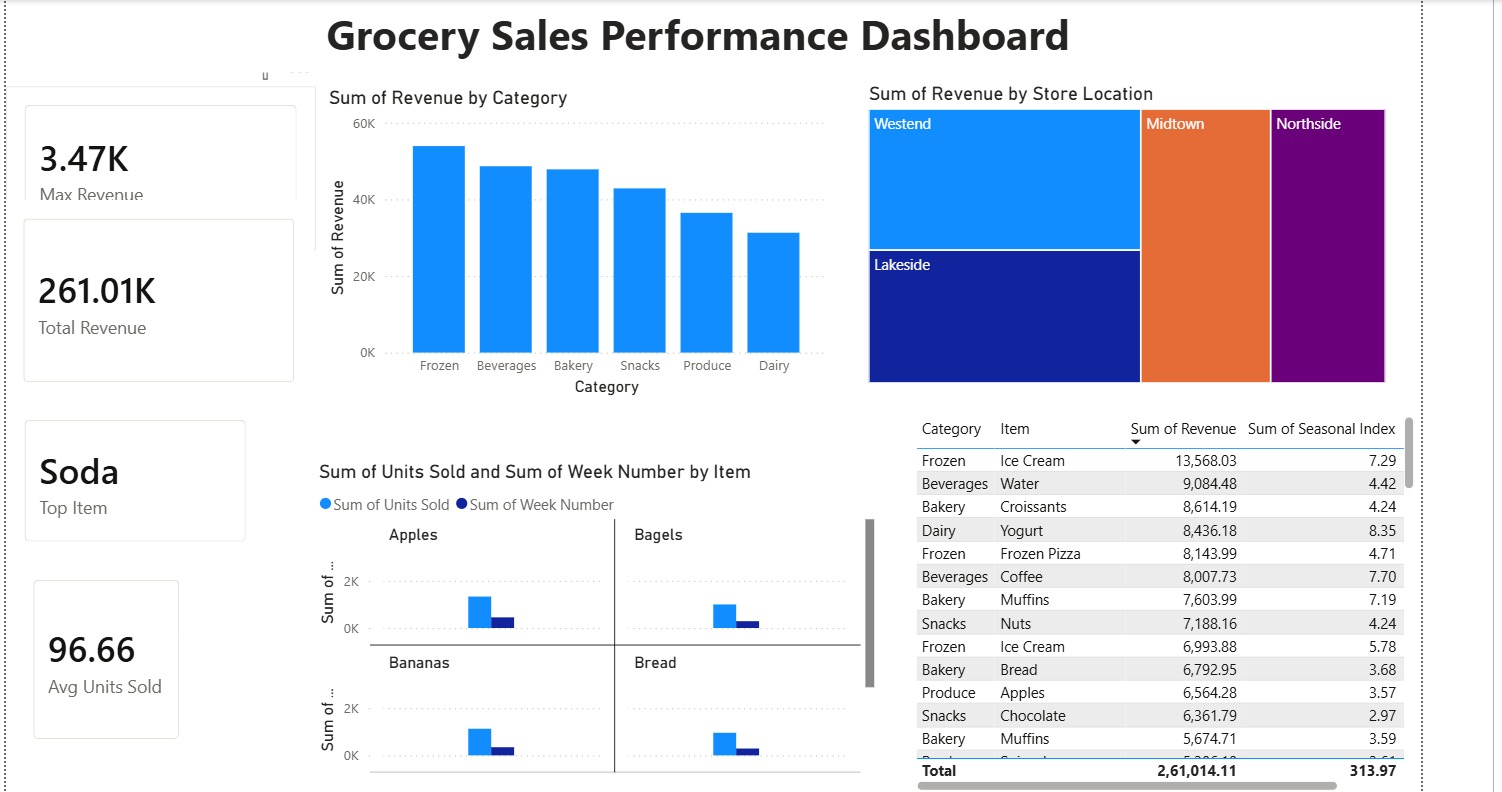

What the dashboard file says about the page in this screenshot:
{"tool":"powerbi","page":{"name":"Page 1","canvas":[1280,720],"ordinal":0},"visuals":[{"type":"cardVisual","fields":{"Data":["Cleaned.Avg Units Sold"]},"box":[7.9,507.7,166.2,178.6],"z":0},{"type":"cardVisual","fields":{"Data":["Cleaned.Max Revenue"]},"box":[0,78,280.4,148.1],"z":1000},{"type":"cardVisual","fields":{"Data":["Cleaned.Top Item"]},"box":[0,362.9,234,144.7],"z":2000},{"type":"cardVisual","fields":{"Data":["Cleaned.Total Revenue"]},"box":[-1.1,180.9,279.3,182],"z":3000},{"type":"clusteredColumnChart","fields":{"Y":["Sum(Cleaned.Units Sold)","Sum(Cleaned.Week Number)"],"Rows":["Cleaned.Item"]},"box":[278.2,415.9,512.7,288.9],"z":4000},{"type":"treemap","fields":{"Values":["Sum(Cleaned.Revenue)"],"Group":["Cleaned.Store Location"]},"box":[775.6,74.6,477.1,277],"z":5000},{"type":"tableEx","fields":{"Values":["Cleaned.Category","Cleaned.Item","Sum(Cleaned.Revenue)","Sum(Cleaned.Seasonal Index)","Cleaned.Sales level"]},"box":[817.5,372,461.3,348.2],"z":6000},{"type":"clusteredColumnChart","fields":{"Category":["Cleaned.Category"],"Y":["Sum(Cleaned.Revenue)"]},"box":[287.2,78,461.3,284.9],"z":7000},{"type":"textbox","box":[99.5,0,941.8,65.6],"z":8000}]}

Visuals, with their boxes on the page's 1280x720 design canvas (x1, y1, x2, y2). These are canvas units, not pixel positions in the 1502x792 screenshot, which may show the page scaled, cropped or inside an application window:
cardVisual - Cleaned.Avg Units Sold: [left=8, top=508, right=174, bottom=686]
cardVisual - Cleaned.Max Revenue: [left=0, top=78, right=280, bottom=226]
cardVisual - Cleaned.Top Item: [left=0, top=363, right=234, bottom=508]
cardVisual - Cleaned.Total Revenue: [left=-1, top=181, right=278, bottom=363]
clusteredColumnChart - Sum(Cleaned.Units Sold) x Sum(Cleaned.Week Number): [left=278, top=416, right=791, bottom=705]
treemap - Sum(Cleaned.Revenue) x Cleaned.Store Location: [left=776, top=75, right=1253, bottom=352]
tableEx - Cleaned.Category x Cleaned.Item: [left=818, top=372, right=1279, bottom=720]
clusteredColumnChart - Cleaned.Category x Sum(Cleaned.Revenue): [left=287, top=78, right=748, bottom=363]
textbox: [left=100, top=0, right=1041, bottom=66]
